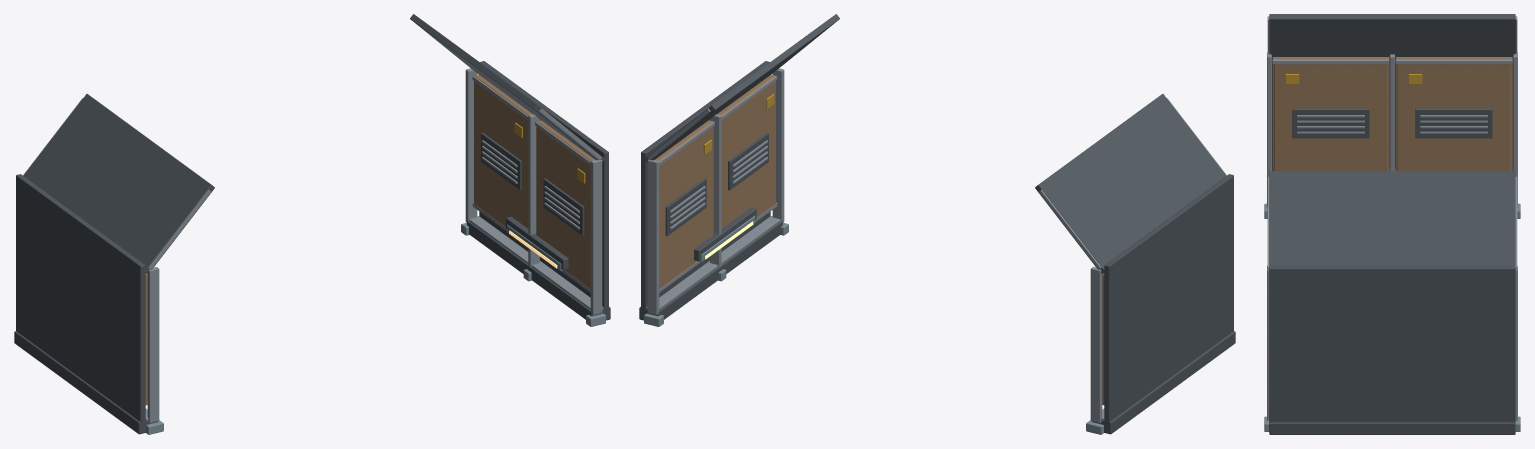
The model's file is NA_GalleryWallBay_L_G02_LOD0.fbx.
The picture shows the model from 3 angles, left to right: view 1: azimuth 30°, elevation 25°; view 2: azimuth 150°, elevation 25°; view 3: azimuth 270°, elevation 25°; orthographic projection.
Parts seen in each view (by area): view 1: NA_GalleryWallBay_L_G02_LOD0; view 2: NA_GalleryWallBay_L_G02_LOD0; view 3: NA_GalleryWallBay_L_G02_LOD0.
Boxes of the visible parts, x1=… form: NA_GalleryWallBay_L_G02_LOD0: x1=14, y1=14, x2=610, y2=434; NA_GalleryWallBay_L_G02_LOD0: x1=639, y1=14, x2=1235, y2=434; NA_GalleryWallBay_L_G02_LOD0: x1=1264, y1=14, x2=1520, y2=434.
Size of the model in its own units: 30.21 by 14.22 by 14.4.
